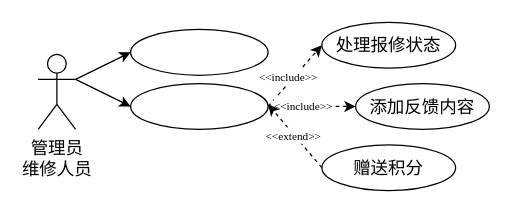
This 511x213 diagram has some shape labels left out. The shapes that lost their labels are listed below. From the top down, each one's centre as x and y in pixels, then its label:
At point (198, 51): "机器列表管理".
At point (198, 105): "机器报修管理".
